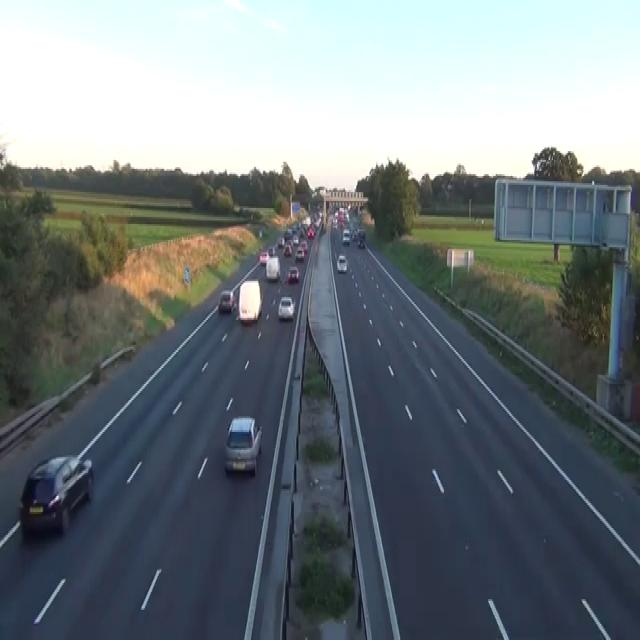Car: (19, 453, 93, 535), (224, 414, 262, 475), (332, 204, 366, 249), (277, 295, 295, 320), (218, 290, 235, 313), (336, 252, 347, 272), (287, 265, 299, 283), (342, 230, 350, 246), (259, 251, 268, 265), (295, 247, 304, 261), (283, 244, 292, 256), (302, 215, 311, 226), (267, 245, 275, 256), (284, 229, 292, 240), (307, 226, 314, 238), (351, 228, 358, 240), (300, 240, 307, 252), (357, 237, 365, 247), (357, 228, 365, 238), (277, 237, 284, 247), (292, 234, 299, 243), (259, 228, 262, 238)
Truck: (238, 279, 262, 324), (265, 256, 280, 281)
